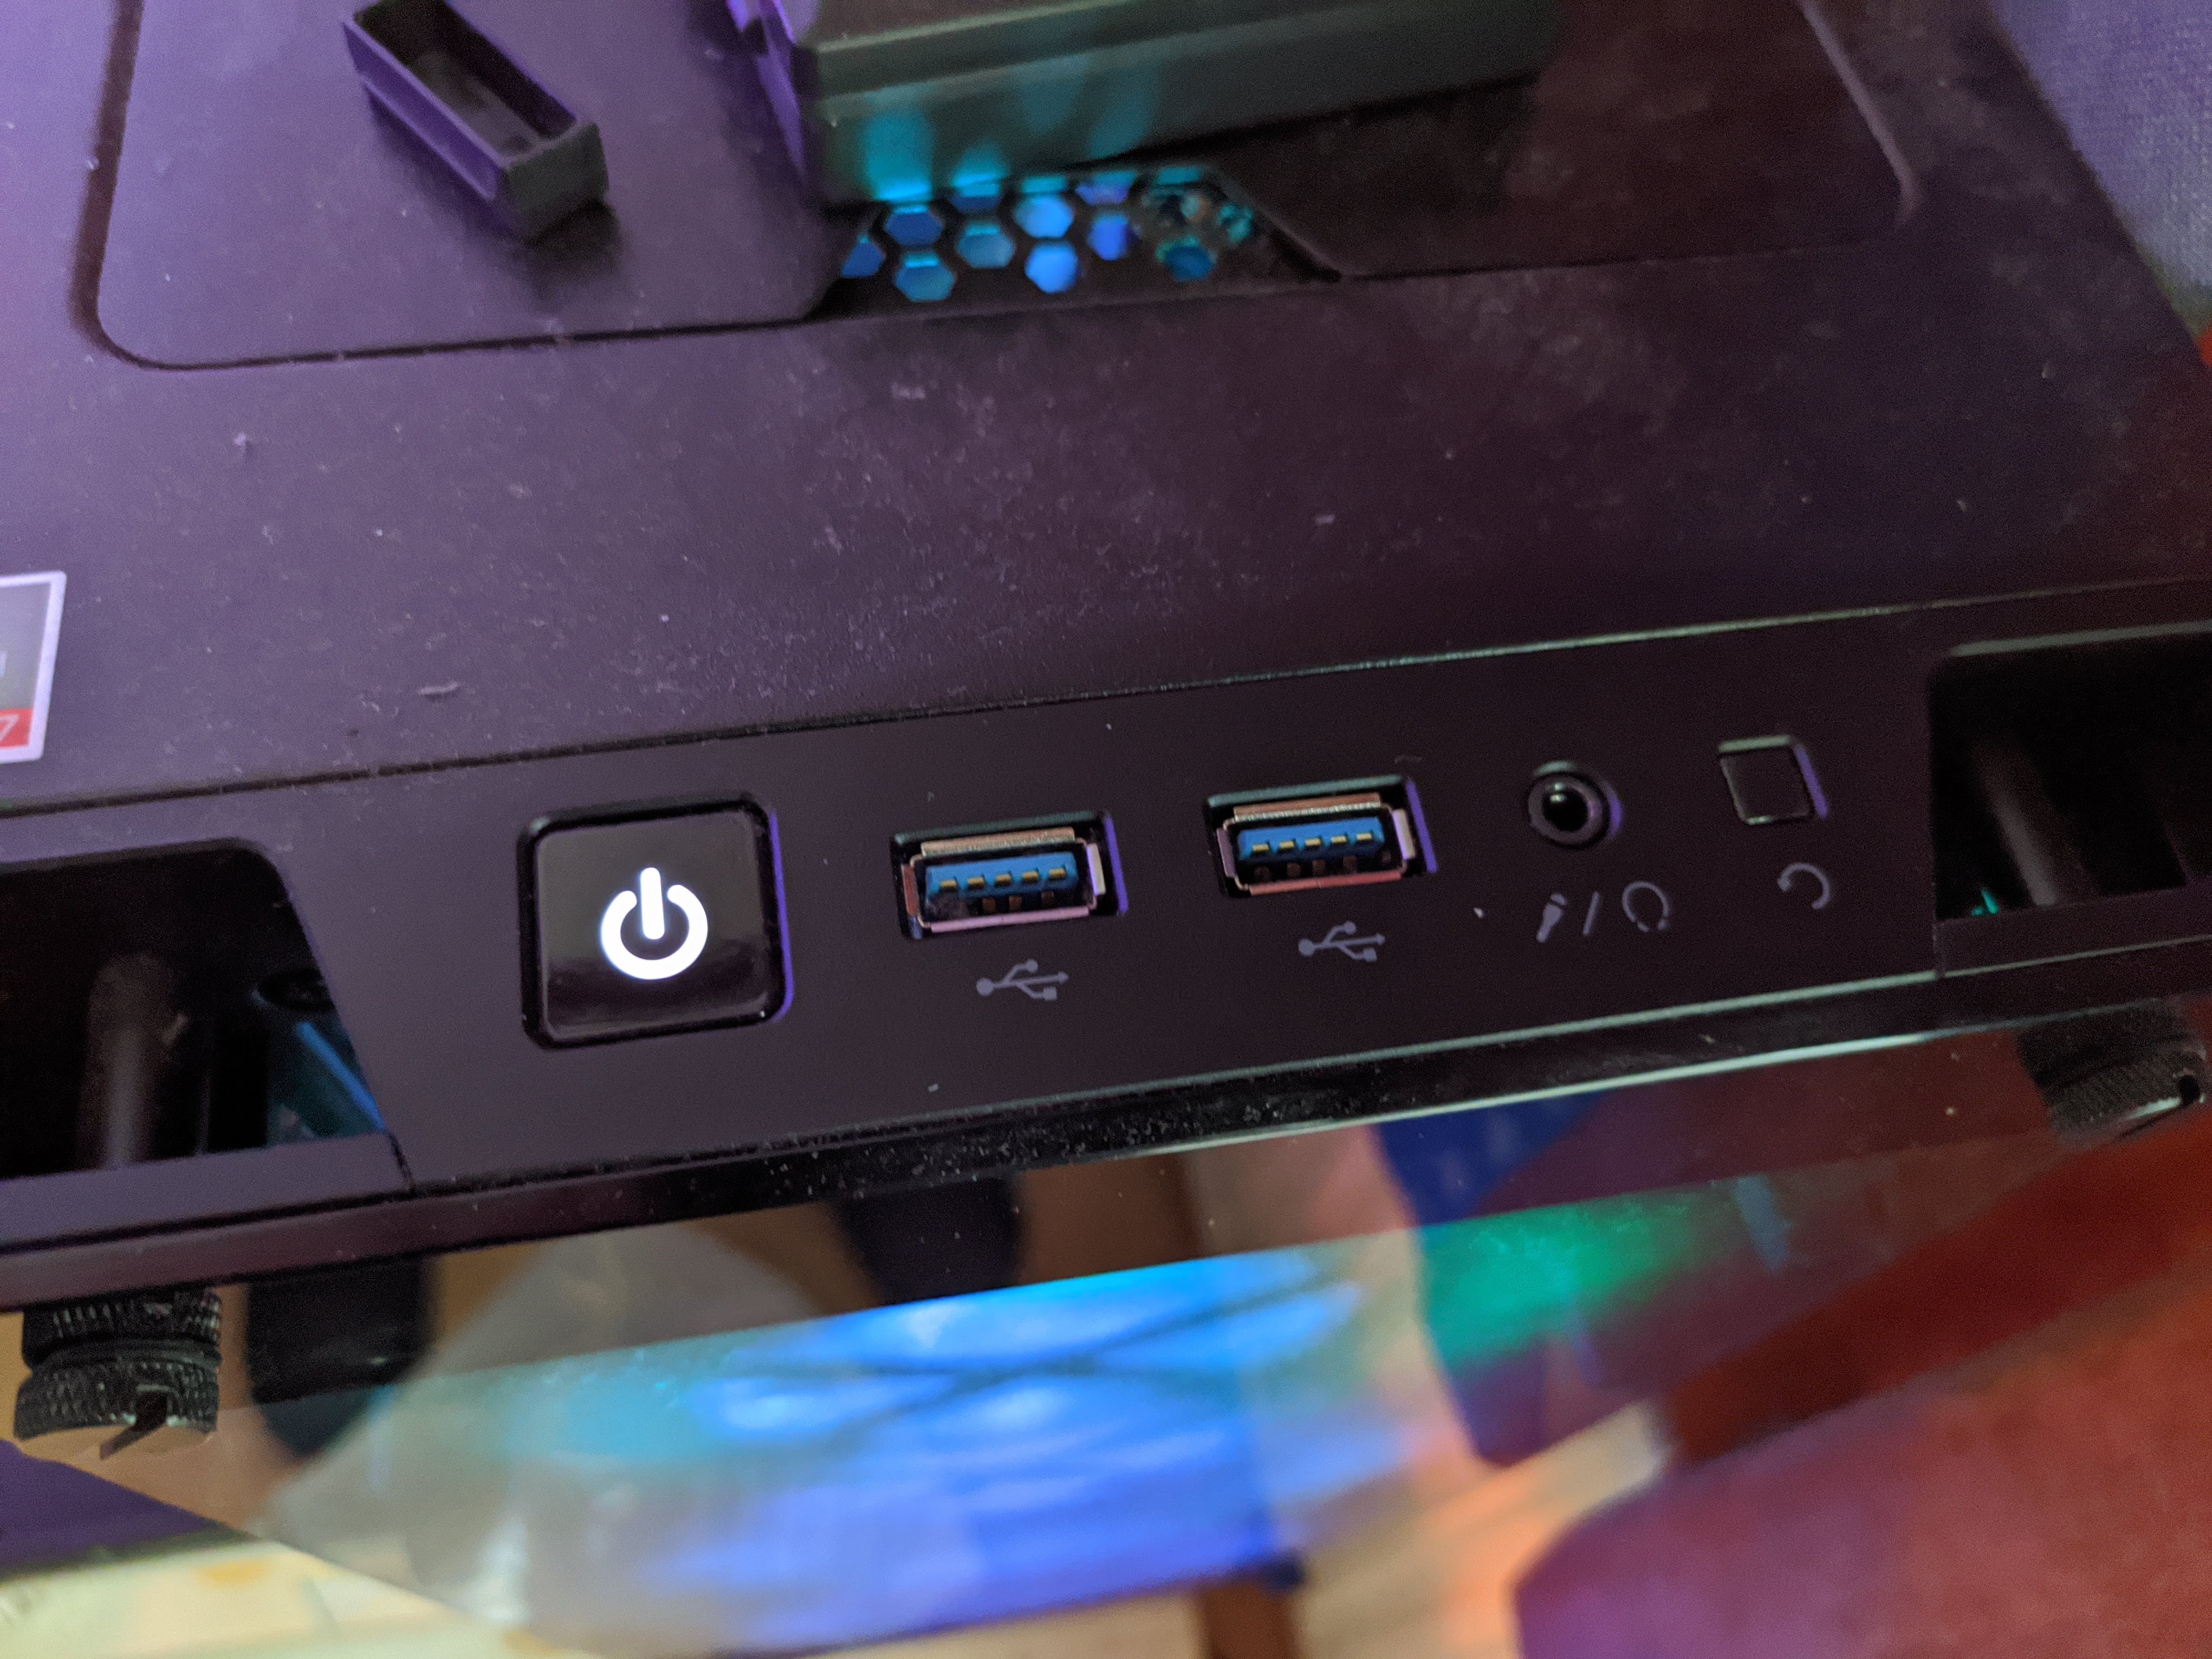usbport_in: (892, 826, 1116, 934), (1217, 796, 1420, 899)
